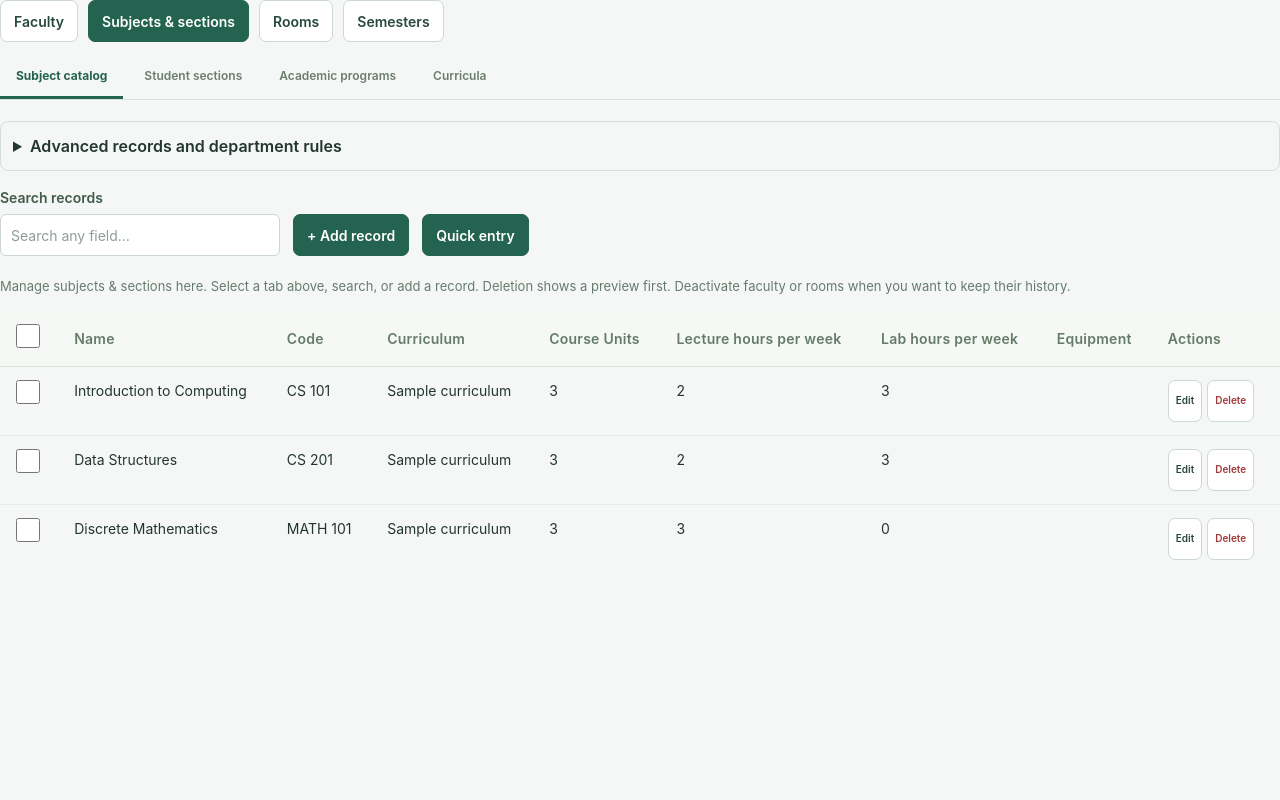
Test case: retains a deliberately chosen curriculum when several versions exist
Click the button "+ Add record": click(351, 235) [293,214,409,256]
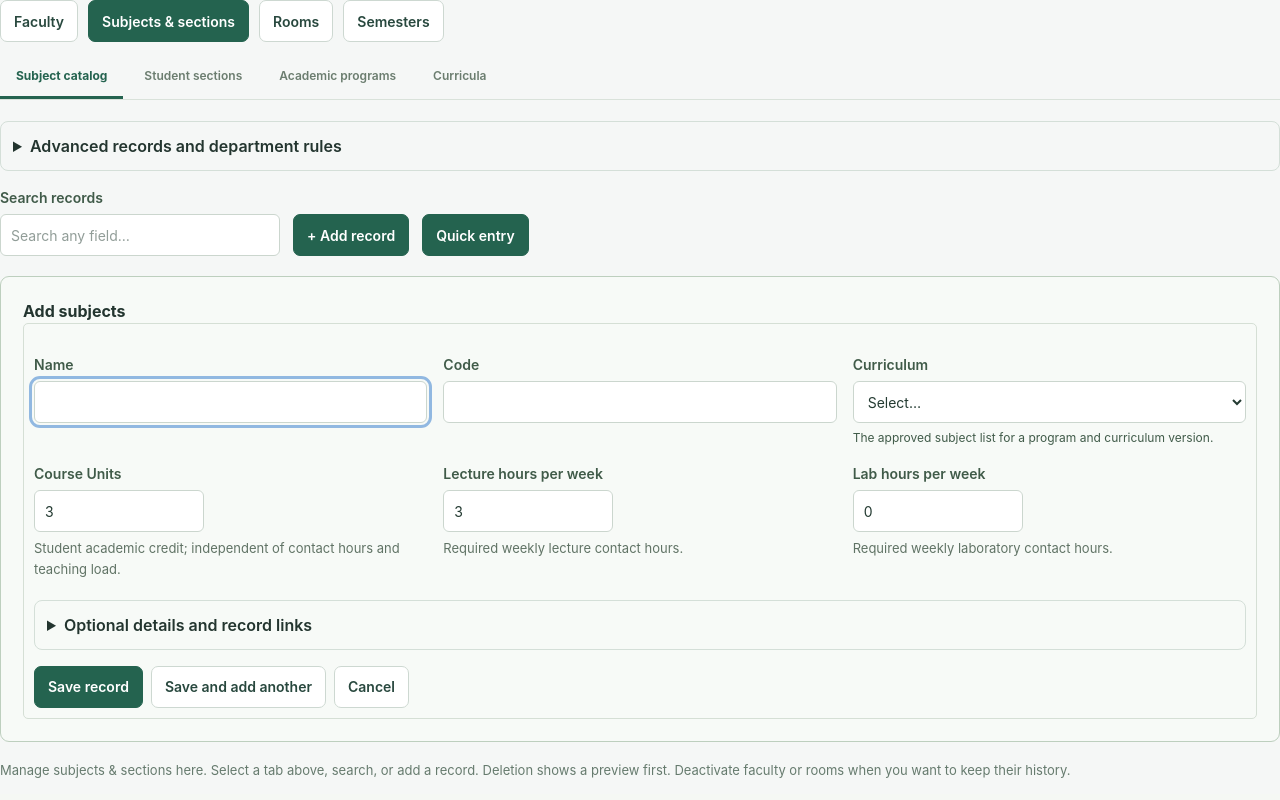
Select "Revised curriculum" in the dropdown labelled "Curriculum": (1049, 402) [853,381,1246,423]
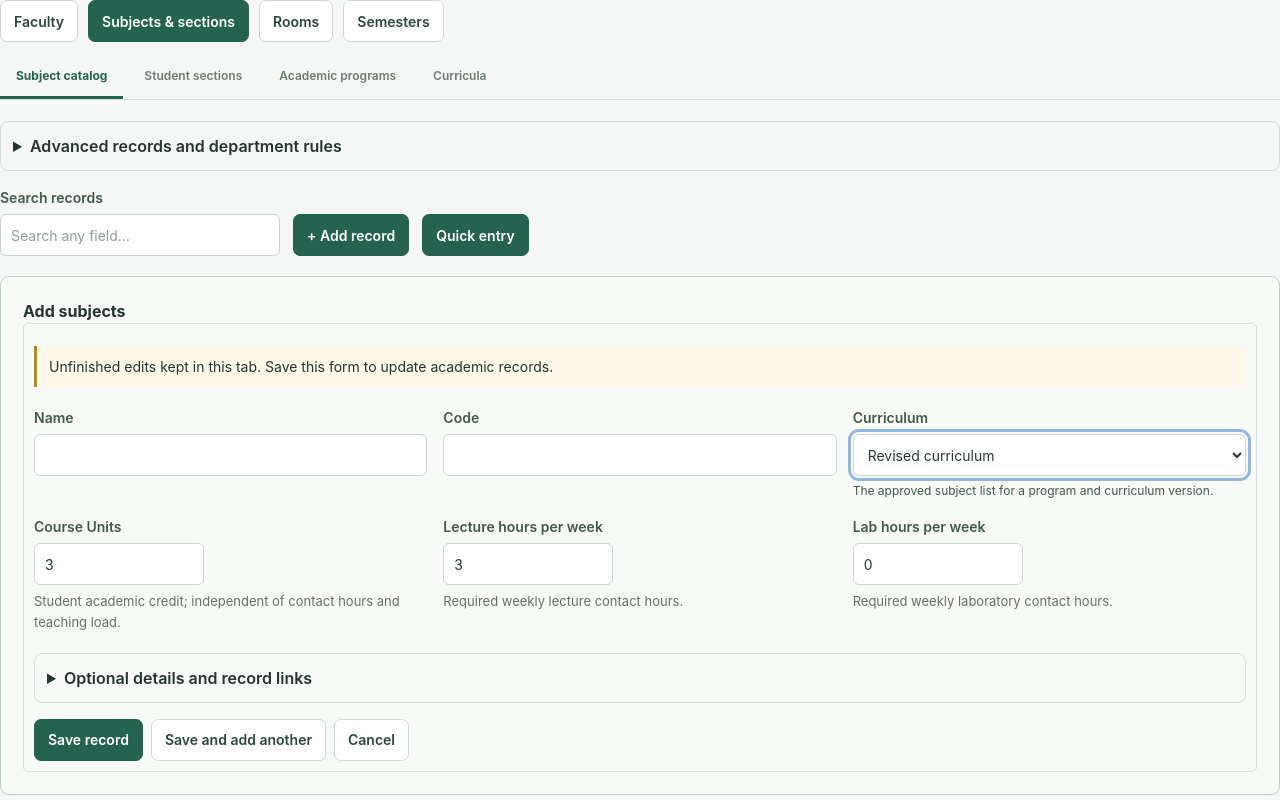
In the field labelled "Name": (231, 455) [34,434,427,476], type "Networks"
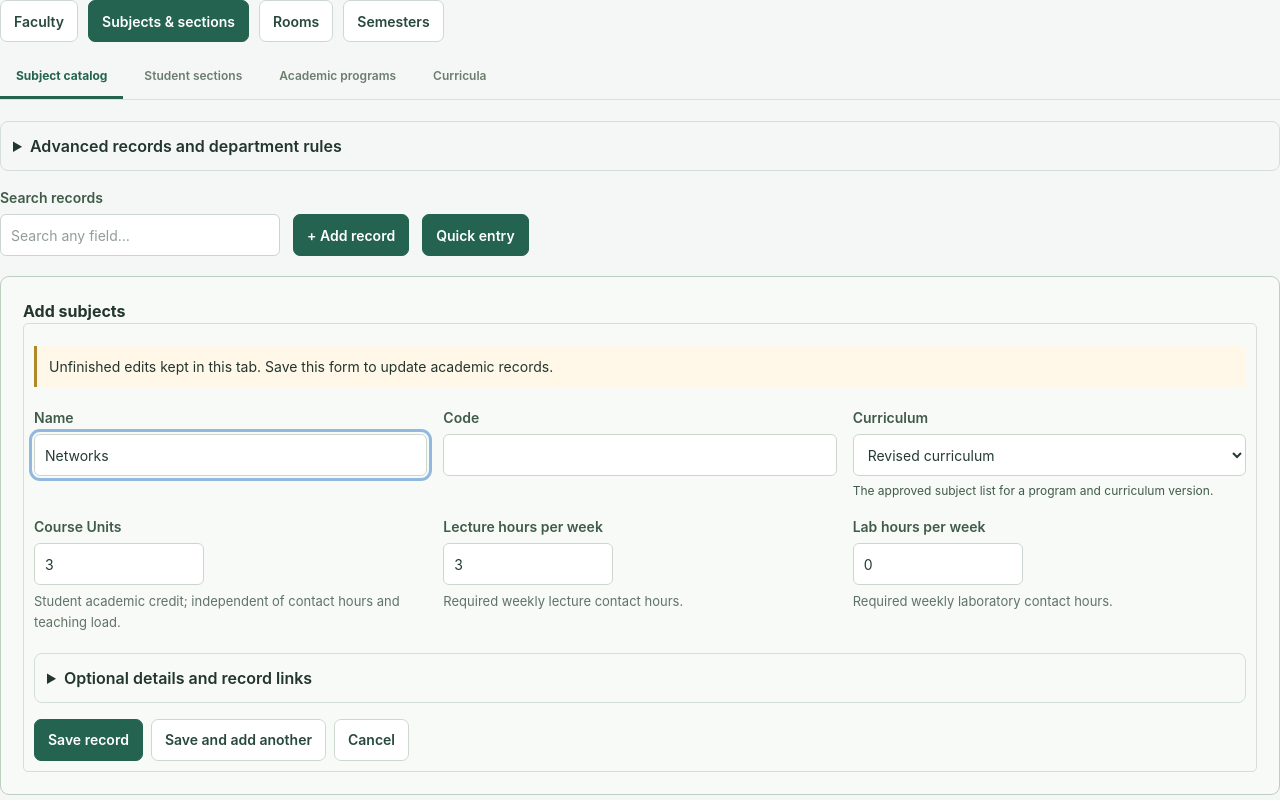
In the field labelled "Code": (640, 455) [443,434,837,476], type "CS 302"
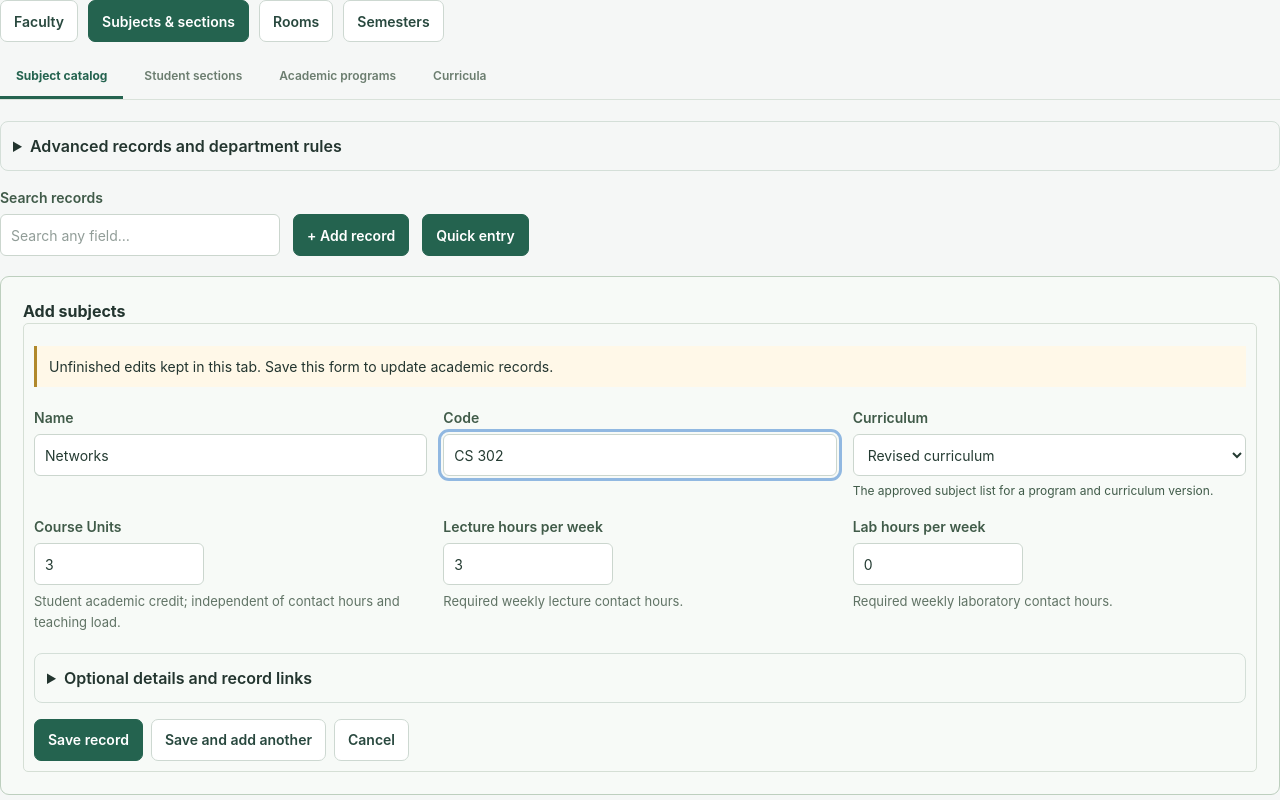
Click the button "Save and add another": click(238, 740) [151,719,326,761]
(page scrolled)
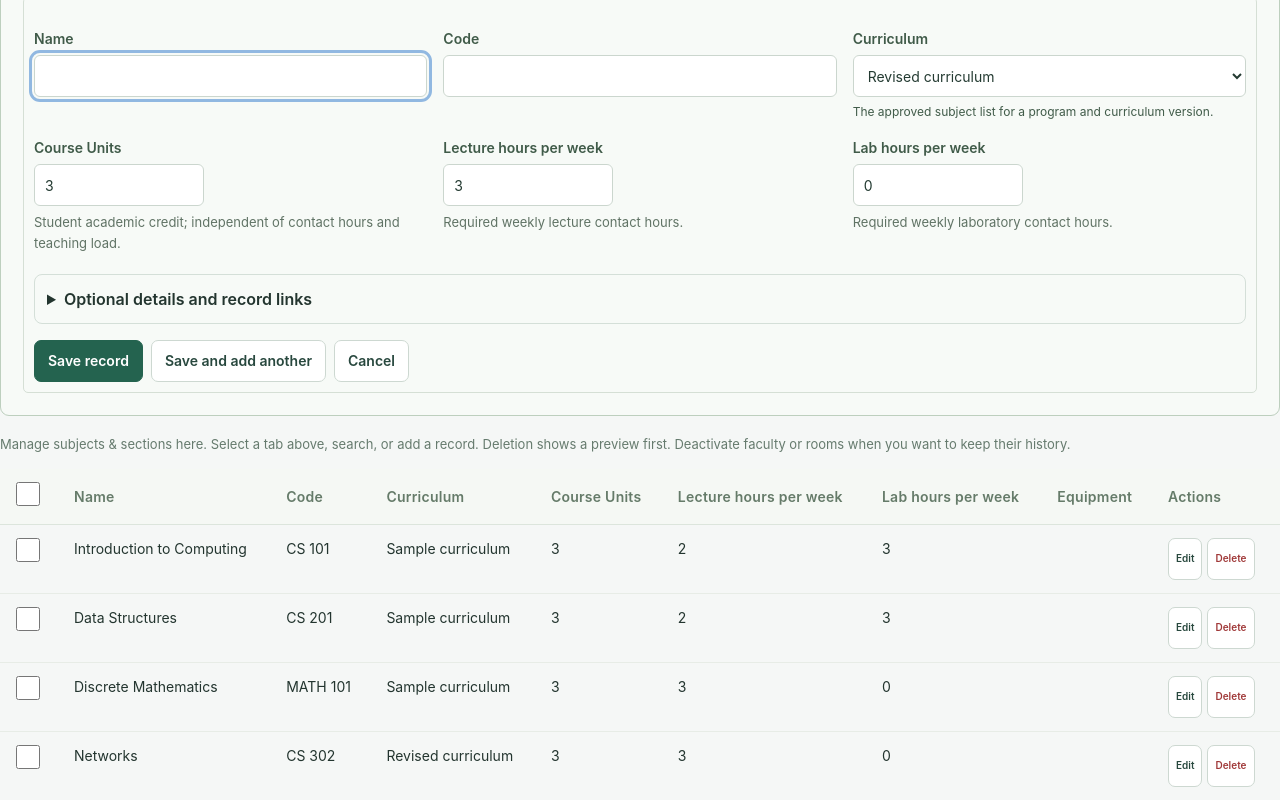
expect the dropdown labelled "Curriculum" shows "Revised curriculum": met, box [853,55,1246,97]
expect the field labelled "Name" is empty: met, box [34,55,427,97]
expect the field labelled "Code" is empty: met, box [443,55,837,97]
